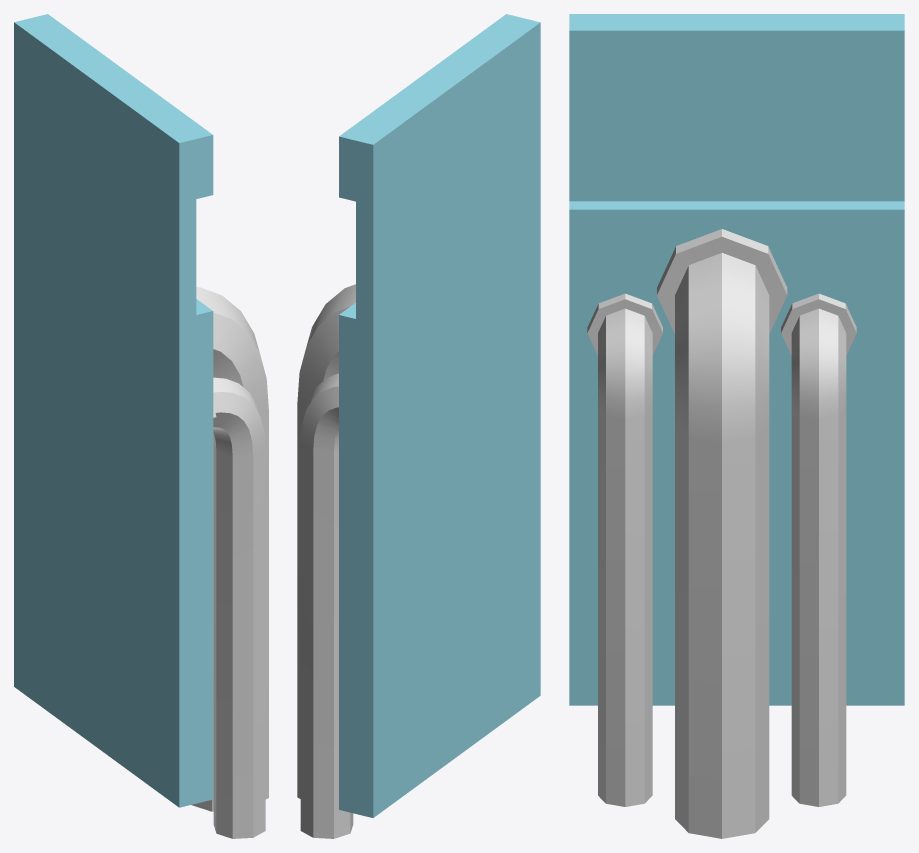
The model's file is MurCote7.fbx.
The picture shows the model from 3 angles, left to right: view 1: azimuth 30°, elevation 25°; view 2: azimuth 150°, elevation 25°; view 3: azimuth 270°, elevation 25°; orthographic projection.
Parts seen in each view (by area): view 1: Cube.042, BézierCurve, BézierCurve.001; view 2: Cube.042, BézierCurve, BézierCurve.001; view 3: Cube.042, BézierCurve.001, BézierCurve.
Boxes of the visible parts, left/top/right/bottom form: Cube.042: left=14, top=14, right=213, bottom=807; BézierCurve: left=213, top=377, right=265, bottom=838; BézierCurve.001: left=191, top=287, right=268, bottom=811; Cube.042: left=339, top=14, right=540, bottom=817; BézierCurve: left=300, top=373, right=353, bottom=838; BézierCurve.001: left=297, top=284, right=355, bottom=798; Cube.042: left=569, top=14, right=904, bottom=705; BézierCurve.001: left=657, top=229, right=787, bottom=838; BézierCurve: left=587, top=293, right=856, bottom=806.
Size of the model in its own units: 318 by 1390 by 567.
